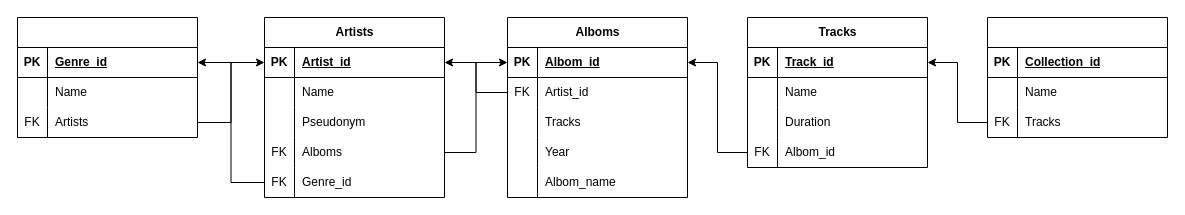
The diagram is 1185 pixels wide and 215 high, and some of its shapes have lost their labels. The shapes that lost their labels are listed below. From the top down, each one's box as (x1, y1, x2, y2) in pixels, then its label:
(16, 16, 198, 138): Music genres
(986, 16, 1168, 138): Collection of tracks
